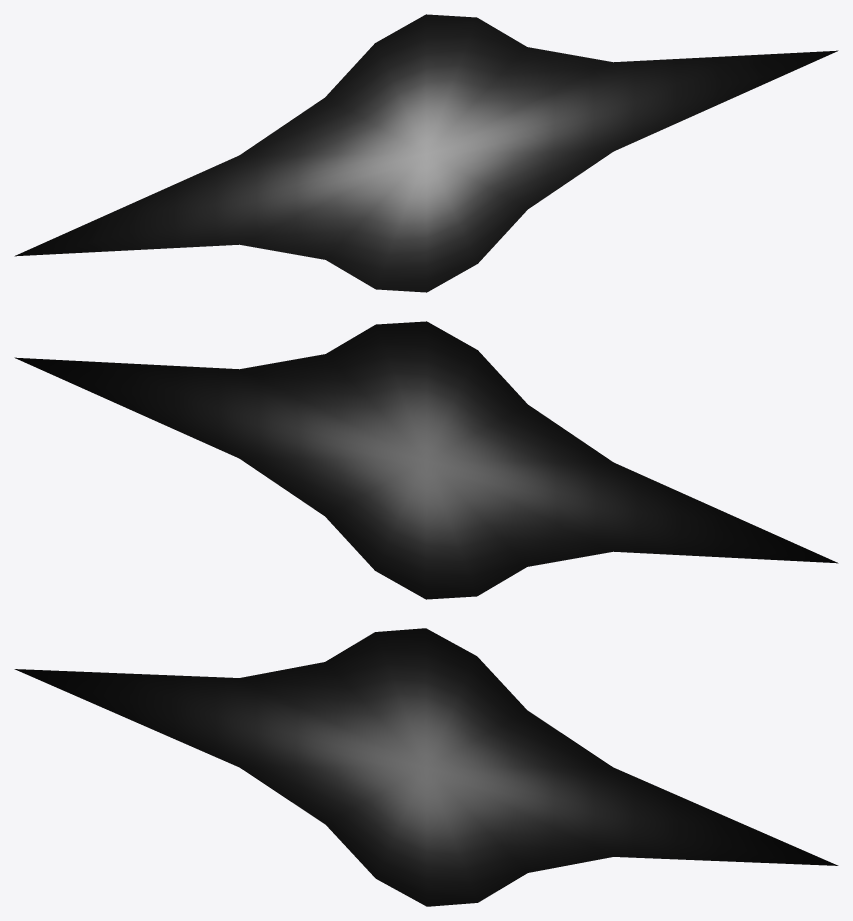
File: teleboardWarpMenu.glb
The picture shows the model from 3 angles, top to bottom: view 1: azimuth 30°, elevation 25°; view 2: azimuth 150°, elevation 25°; view 3: azimuth 330°, elevation 25°; orthographic projection.
Parts seen in each view (by area): view 1: teleboardWarp; view 2: teleboardWarp; view 3: teleboardWarp.
Boxes of the visible parts, x1=… form: teleboardWarp: x1=14, y1=14, x2=838, y2=292; teleboardWarp: x1=14, y1=321, x2=838, y2=599; teleboardWarp: x1=14, y1=628, x2=838, y2=906.
Size of the model in its own units: 17.1 by 5.51 by 0.
1 material, 1 textured.
